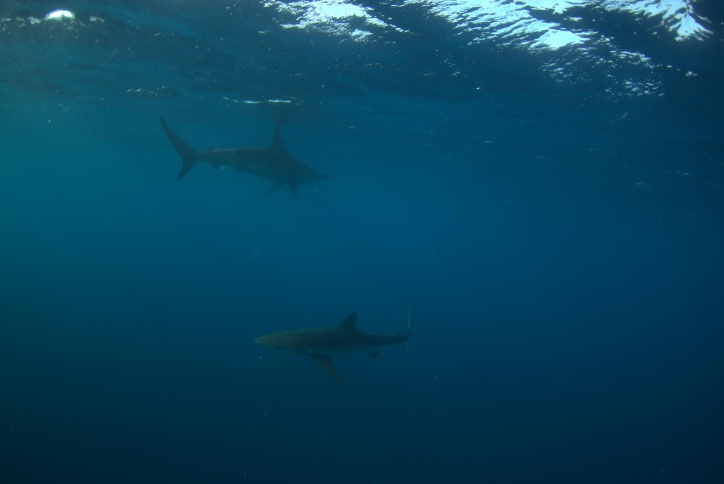Hammer: (254, 300, 440, 393), (155, 114, 339, 206)
